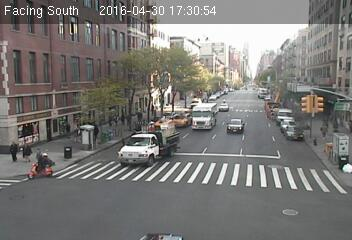neg: (308, 132, 343, 178), (40, 44, 74, 90), (300, 86, 329, 124), (153, 46, 181, 84), (90, 80, 118, 117), (219, 161, 244, 195), (35, 150, 55, 176), (81, 120, 100, 145), (144, 124, 163, 149), (192, 115, 210, 139), (218, 99, 233, 119), (283, 198, 298, 217), (262, 55, 276, 73), (66, 144, 74, 154)
pos: (7, 139, 22, 159), (24, 139, 33, 152)
